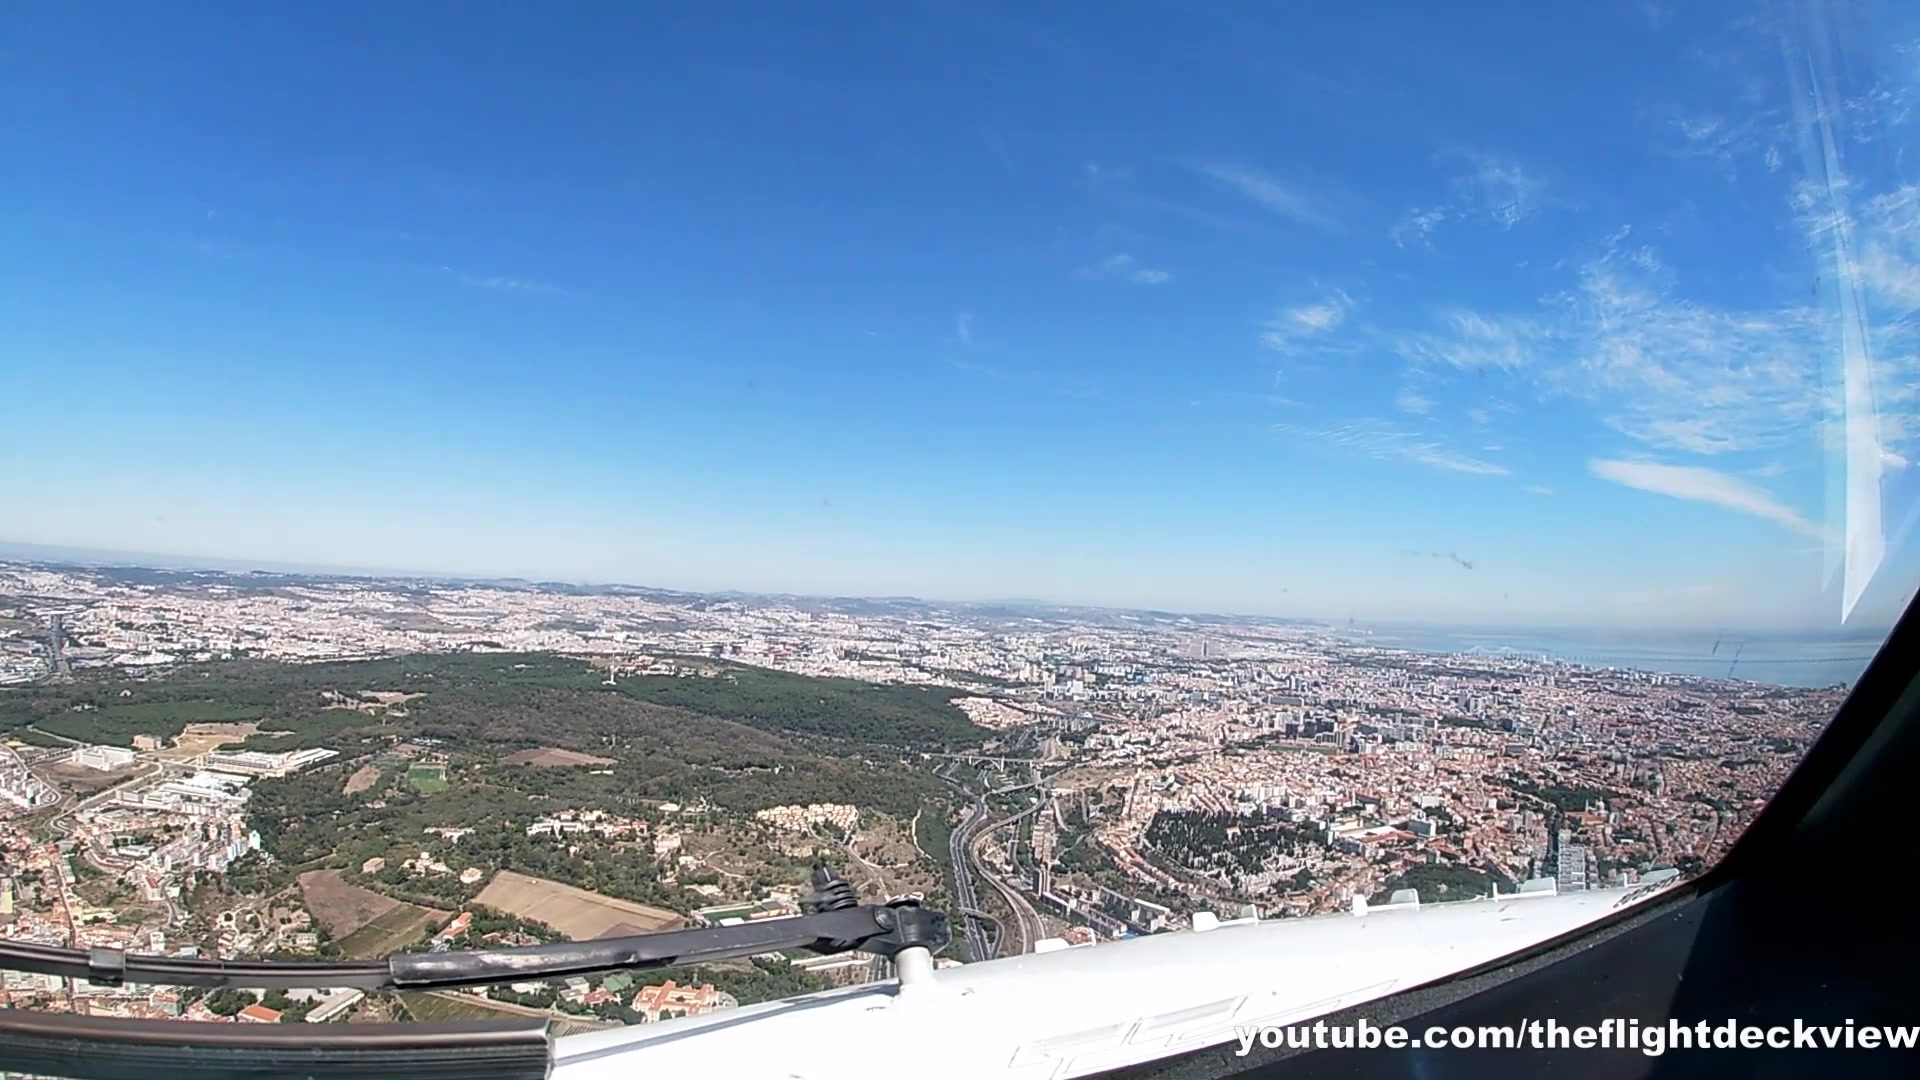runway: (1201, 640, 1211, 659)
